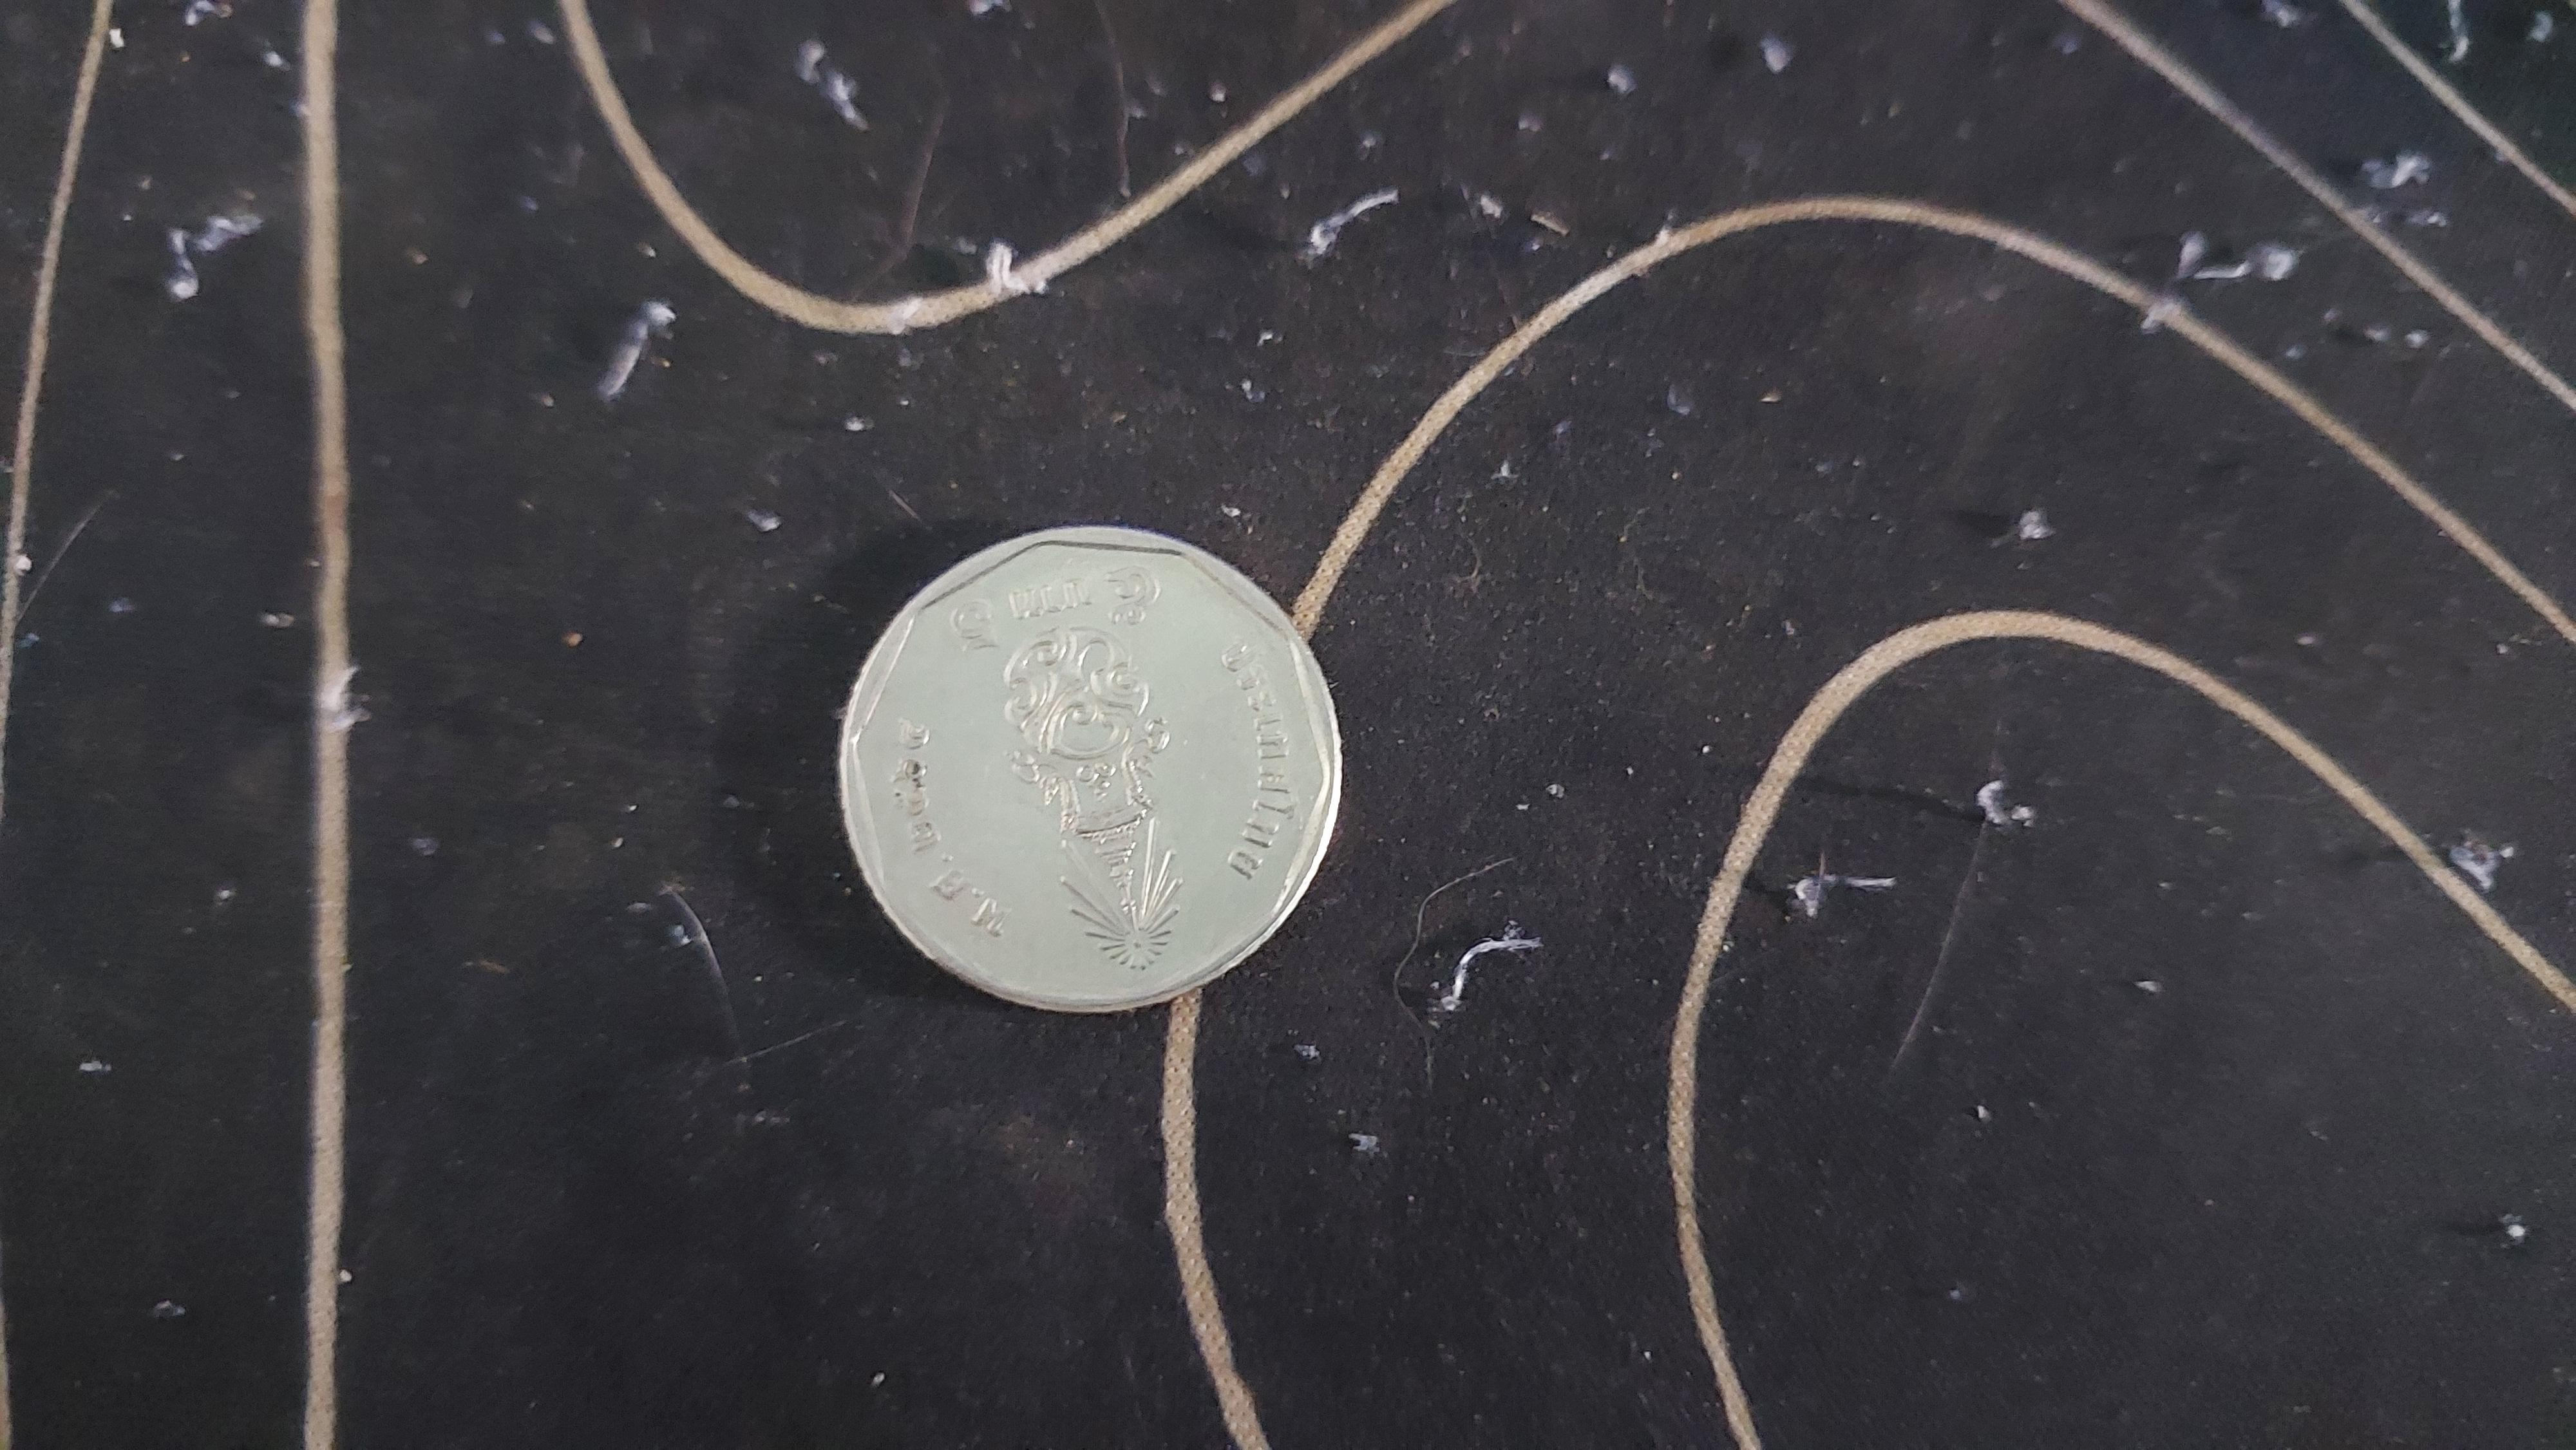5baht: (794, 449, 1467, 1084)
